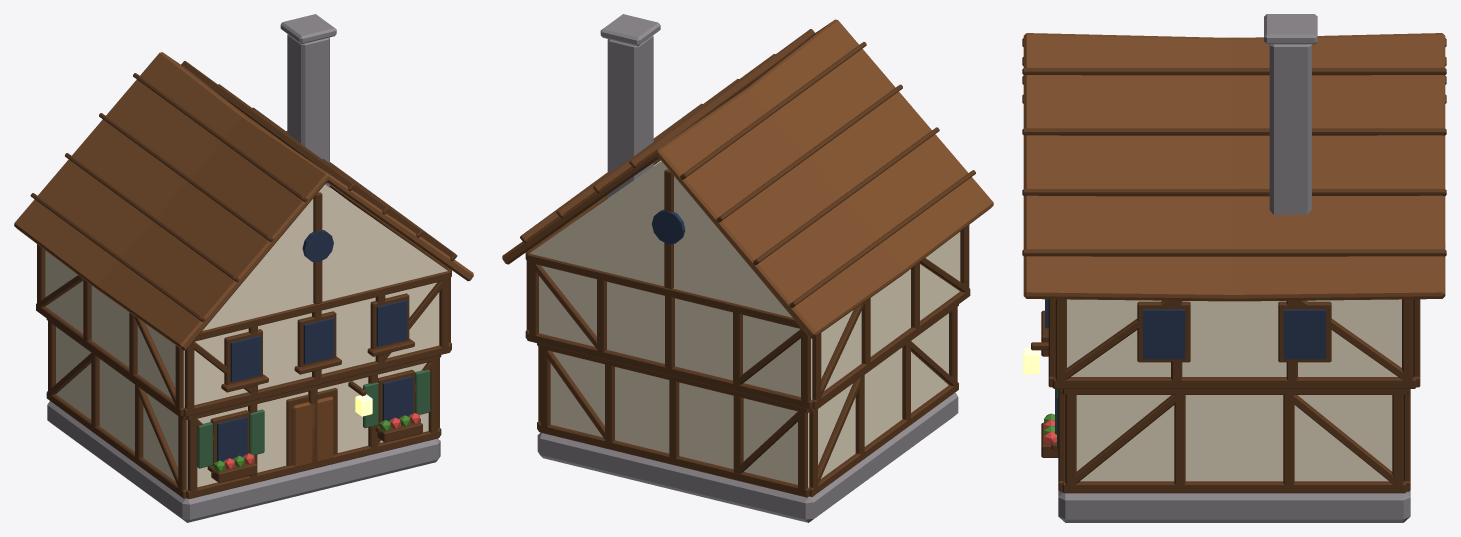
Rendered from house_north_2.glb.
3 views of the same model, side by side, from view 1: azimuth 30°, elevation 25°; view 2: azimuth 150°, elevation 25°; view 3: azimuth 270°, elevation 25° (orthographic). The views are drawn at different scales.
Parts seen in each view (by area): view 1: roof, floor2, gable-1, floor1, plinth, chimney, f2_front_sill, door, f1_front_sill, f2_front_plate, tiles3_1, f2_left_sill (+37 smaller); view 2: roof, floor1, floor2, gable1, plinth, chimney, f2_back_sill, f1_back_sill, f2_back_plate, tiles3_1, f2_left_sill, f1_left_sill (+35 smaller); view 3: roof, floor1, floor2, plinth, chimney, f1_right_sill, f2_right_sill, tiles0_1, tiles2_1, tiles3_1, tiles1_1, ws_-0.5_glass (+19 smaller).
Part boxes in pixels (x1,y1,x2,y2): roof: (14,52,473,350); floor2: (45,187,439,407); gable-1: (202,184,447,330); floor1: (56,327,428,489); plinth: (47,401,440,522); chimney: (287,34,329,187); f2_front_sill: (183,344,450,416); door: (292,396,333,466); f1_front_sill: (186,429,439,499); f2_front_plate: (194,270,450,341); tiles3_1: (181,61,354,190); f2_left_sill: (36,303,183,416); roof: (502,19,993,338); floor1: (550,313,948,487); floor2: (539,160,960,399); gable1: (530,161,792,317); plinth: (537,392,958,522); chimney: (607,36,653,198); f2_back_sill: (527,332,812,409); f1_back_sill: (538,423,809,497); f2_back_plate: (527,252,801,328); tiles3_1: (629,29,814,167); f2_left_sill: (812,288,970,409); f1_left_sill: (809,382,958,496); roof: (1023,33,1445,301); floor1: (1076,395,1392,481); floor2: (1067,299,1401,376); plinth: (1058,490,1410,522); chimney: (1269,44,1311,215); f1_right_sill: (1062,481,1406,493); f2_right_sill: (1052,377,1416,388); tiles0_1: (1022,249,1446,256); tiles2_1: (1022,128,1446,135); tiles3_1: (1022,68,1446,75); tiles1_1: (1022,189,1446,196); ws_-0.5_glass: (1143,309,1185,359).
Bounding box in the file's own units: 3.01 × 3.73 × 3.01.
